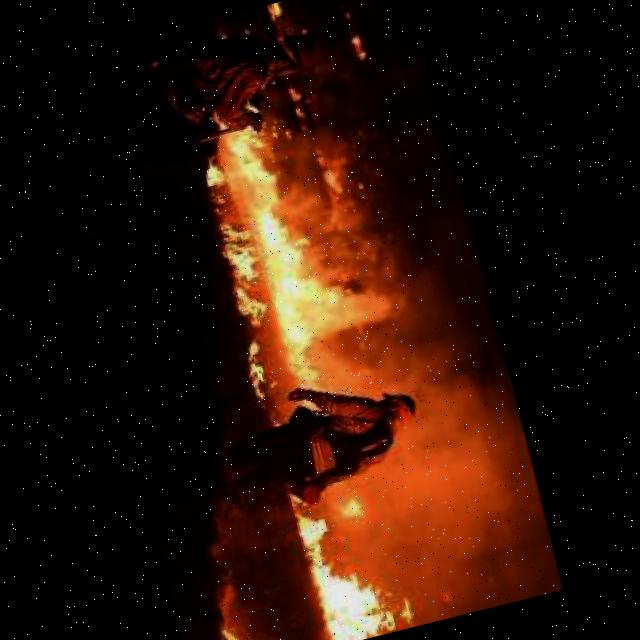fire: (185, 71, 427, 428), (286, 470, 409, 640)
